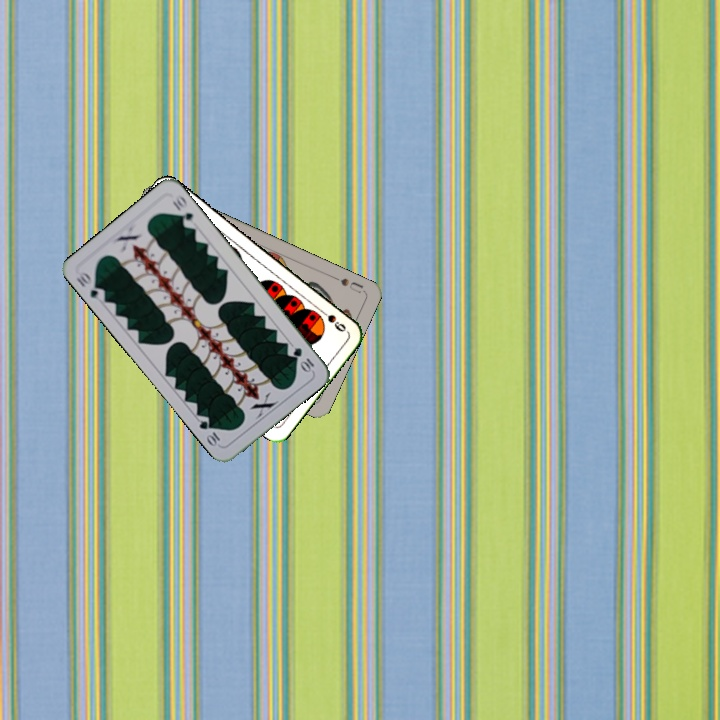G10: (72, 268, 108, 304), (289, 343, 317, 375)
S9: (314, 305, 349, 335)
SU: (328, 272, 366, 296)
